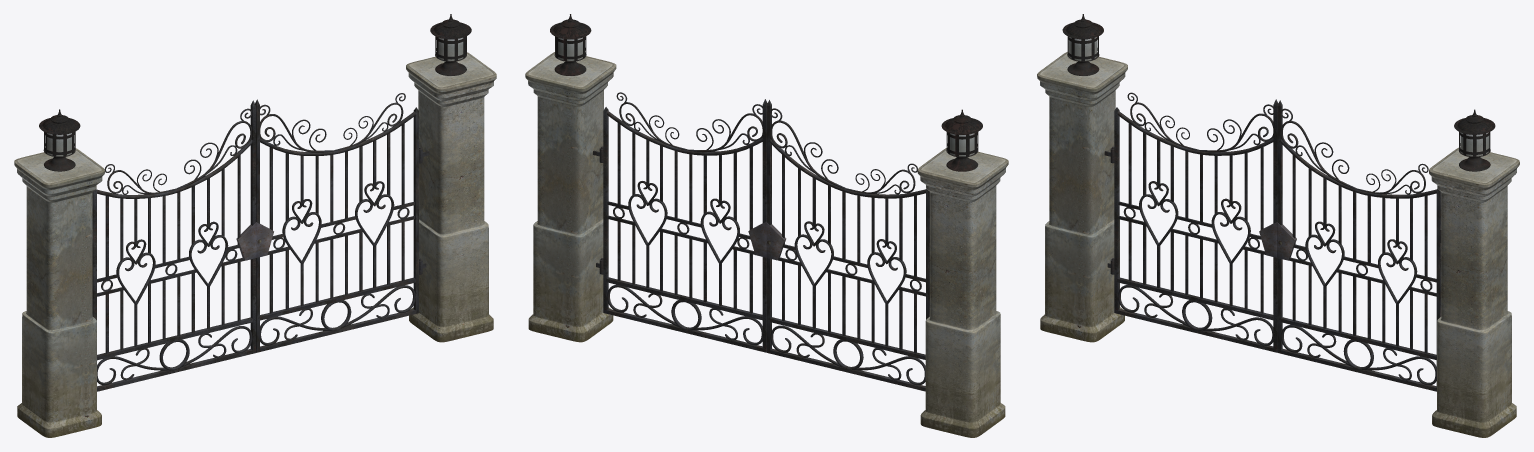
File: gate.fbx
The picture shows the model from 3 angles, left to right: view 1: azimuth 30°, elevation 25°; view 2: azimuth 150°, elevation 25°; view 3: azimuth 330°, elevation 25°; orthographic projection.
Visible parts, largest first — view 1: pillar_right.001, pillar_left.001, gate_left, gate_right, Gate_Light:lightupper, lightupper, lightlower, Gate_Light:lightlower; view 2: pillar_right.001, pillar_left.001, gate_left, gate_right, Gate_Light:lightupper, lightupper, lightlower, Gate_Light:lightlower; view 3: pillar_left.001, pillar_right.001, gate_right, gate_left, Gate_Light:lightupper, lightupper, Gate_Light:lightlower, lightlower.
Boxes of the visible parts, x1,y1,x2,y2 form: pillar_right.001: [14, 148, 104, 437]; pillar_left.001: [406, 52, 496, 342]; gate_left: [255, 93, 422, 352]; gate_right: [92, 100, 256, 391]; Gate_Light:lightupper: [39, 109, 80, 156]; lightupper: [430, 14, 471, 61]; lightlower: [435, 37, 466, 75]; Gate_Light:lightlower: [43, 133, 75, 171]; pillar_right.001: [917, 148, 1008, 437]; pillar_left.001: [525, 52, 616, 342]; gate_left: [599, 92, 767, 352]; gate_right: [766, 100, 929, 391]; Gate_Light:lightupper: [941, 109, 982, 156]; lightupper: [550, 14, 591, 61]; lightlower: [554, 37, 586, 75]; Gate_Light:lightlower: [946, 133, 978, 171]; pillar_left.001: [1429, 147, 1519, 437]; pillar_right.001: [1037, 52, 1127, 342]; gate_right: [1110, 92, 1278, 352]; gate_left: [1277, 100, 1441, 391]; Gate_Light:lightupper: [1062, 14, 1103, 61]; lightupper: [1454, 109, 1495, 156]; Gate_Light:lightlower: [1067, 37, 1099, 75]; lightlower: [1458, 132, 1490, 171].
Size of the model in its own units: 106 by 69.37 by 14.48.
Materials: 4 (4 with a texture image).
